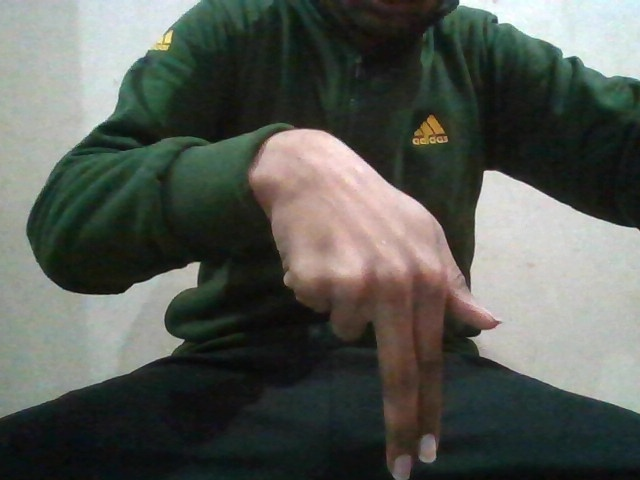Q: (259, 148, 500, 474)
